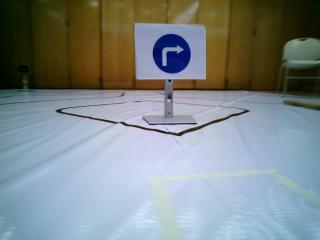right: (135, 22, 208, 79)
